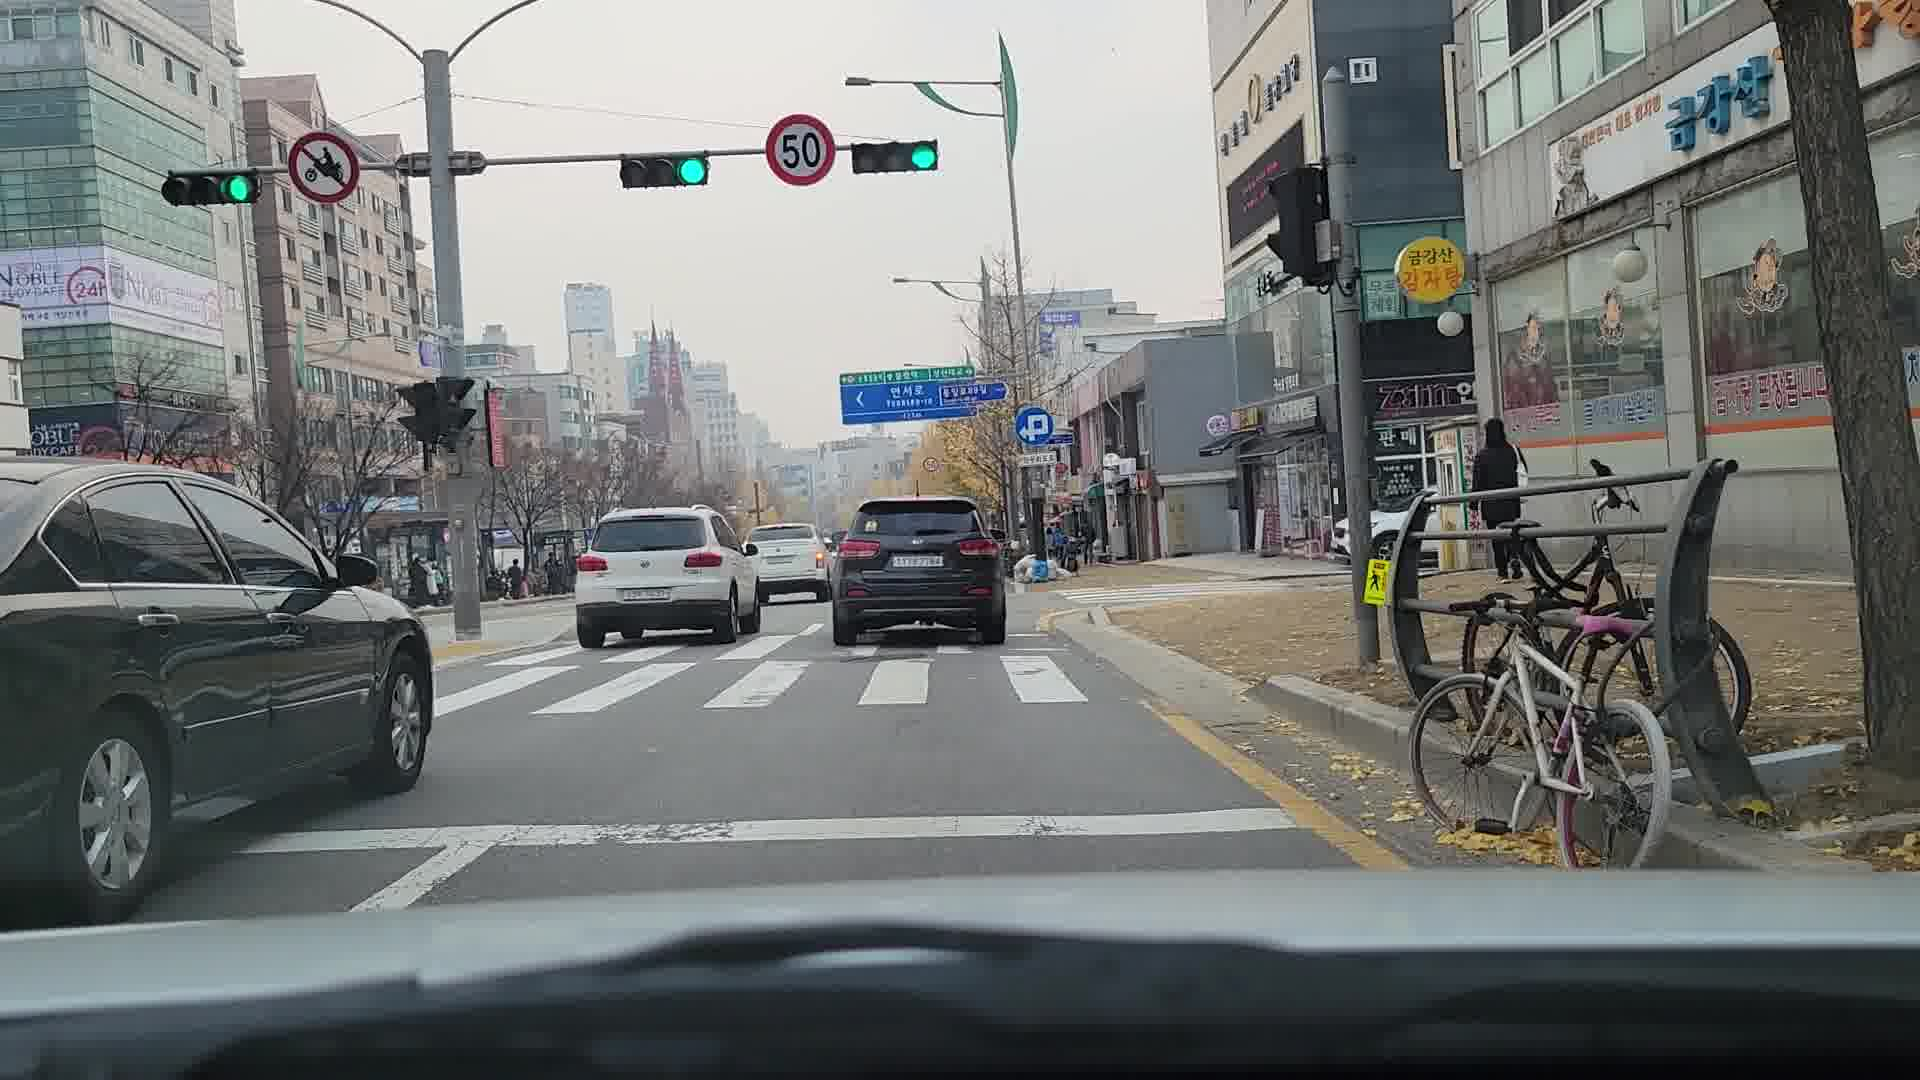bicycle: (1383, 458, 1758, 864)
car: (4, 450, 443, 935), (742, 524, 829, 603)
traffic light: (1271, 167, 1332, 281), (401, 376, 476, 448), (160, 170, 258, 207), (615, 154, 708, 189), (847, 141, 942, 174)
truck: (568, 504, 770, 647), (825, 495, 1010, 646)
